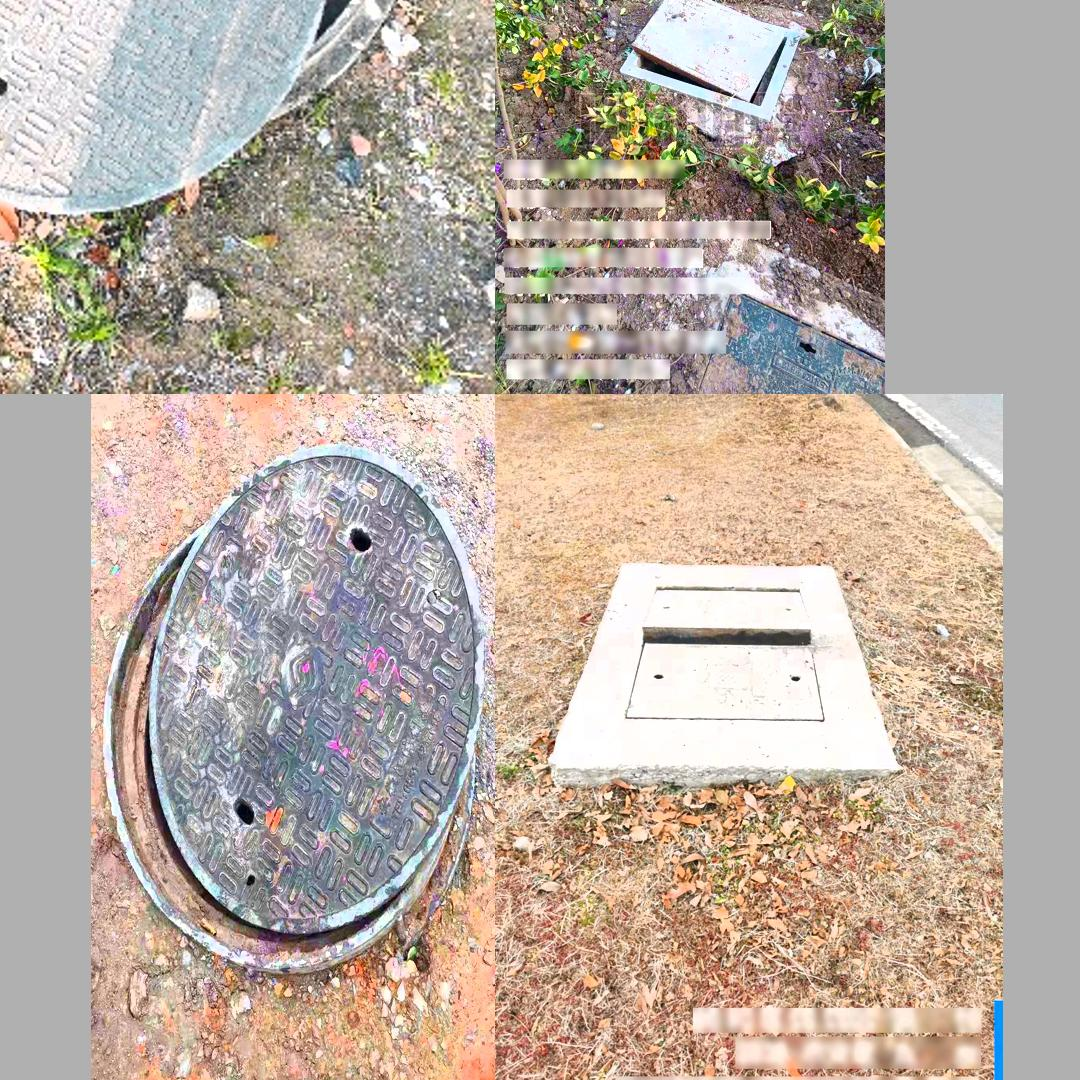uncovered: (101, 438, 484, 972), (0, 0, 407, 211), (618, 583, 834, 727), (618, 0, 802, 118)
